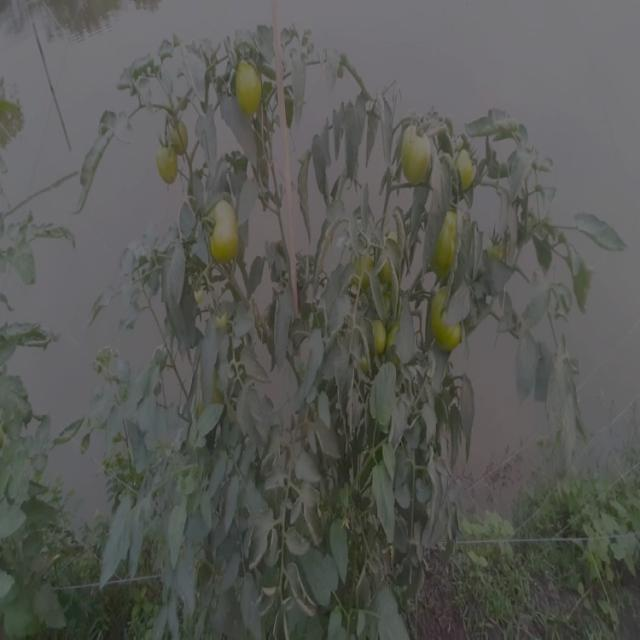tomato: (226, 51, 271, 120), (395, 116, 436, 188), (427, 288, 469, 350), (201, 204, 243, 261), (429, 207, 463, 273), (452, 140, 482, 193), (379, 244, 406, 291), (158, 150, 186, 191), (366, 319, 394, 359), (166, 112, 191, 152), (209, 303, 233, 337)
